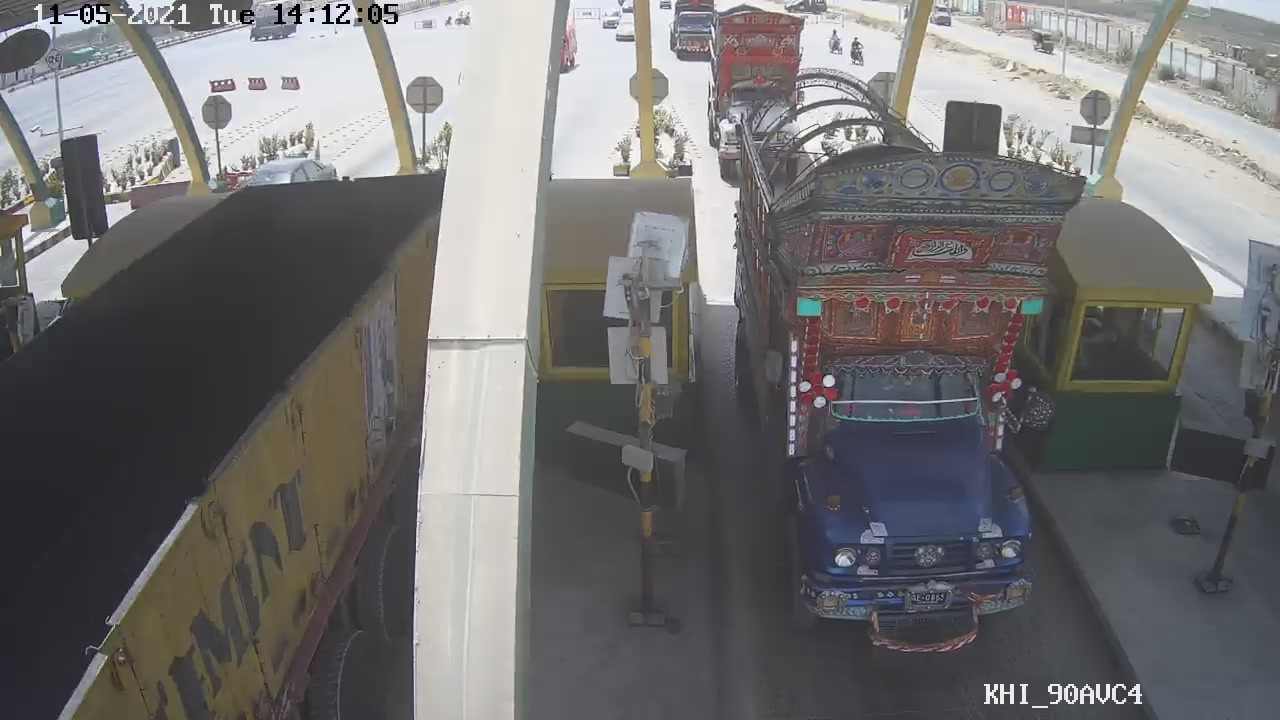F5: (720, 103, 1085, 657)
